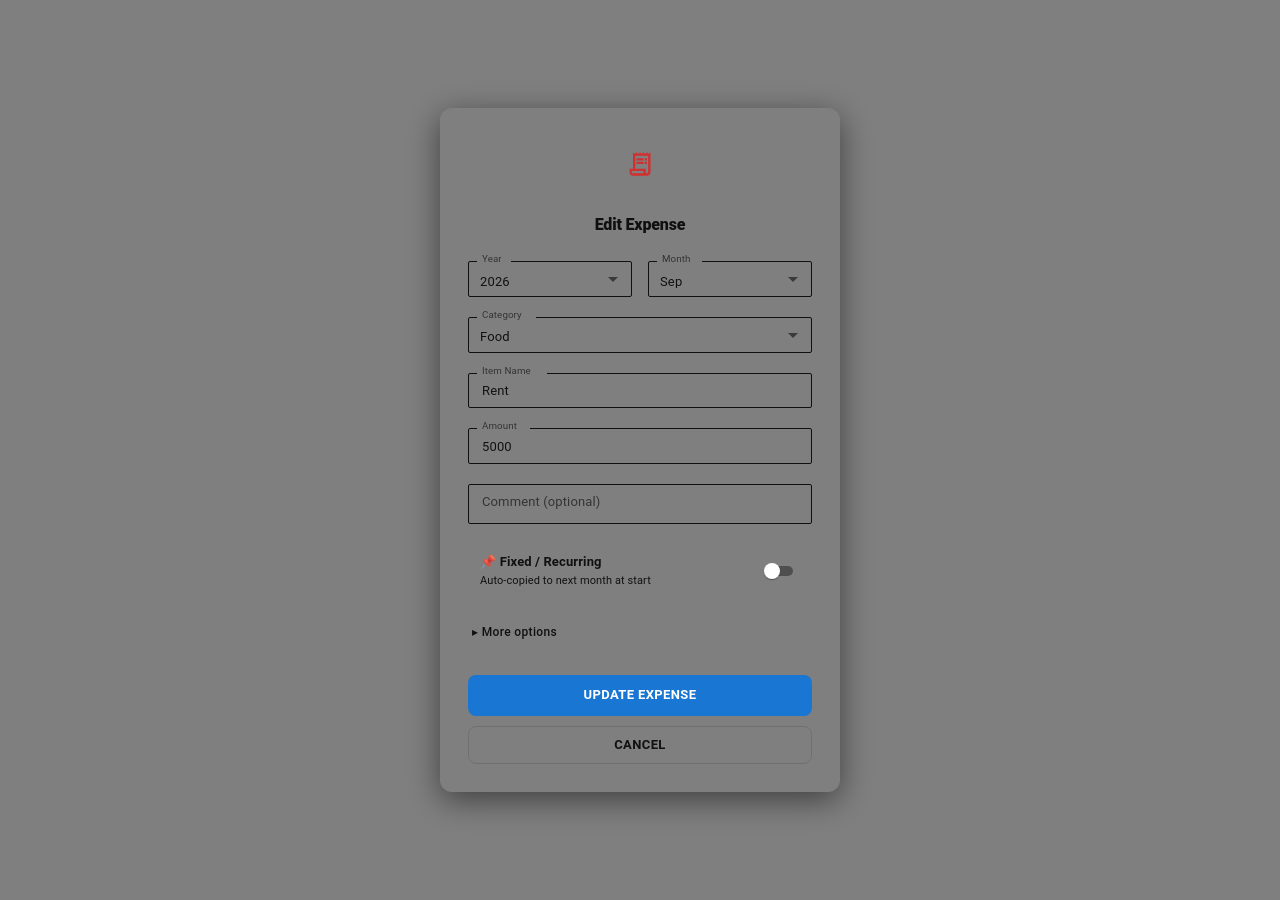
it: AddExpenseModal amount expressions › adds several values at once and shows the whole sum
The width and height of the screenshot is (1280, 900).
Replace the text in the field labelled "Amount" with "+200+300": (640, 446) [468, 428, 812, 464]
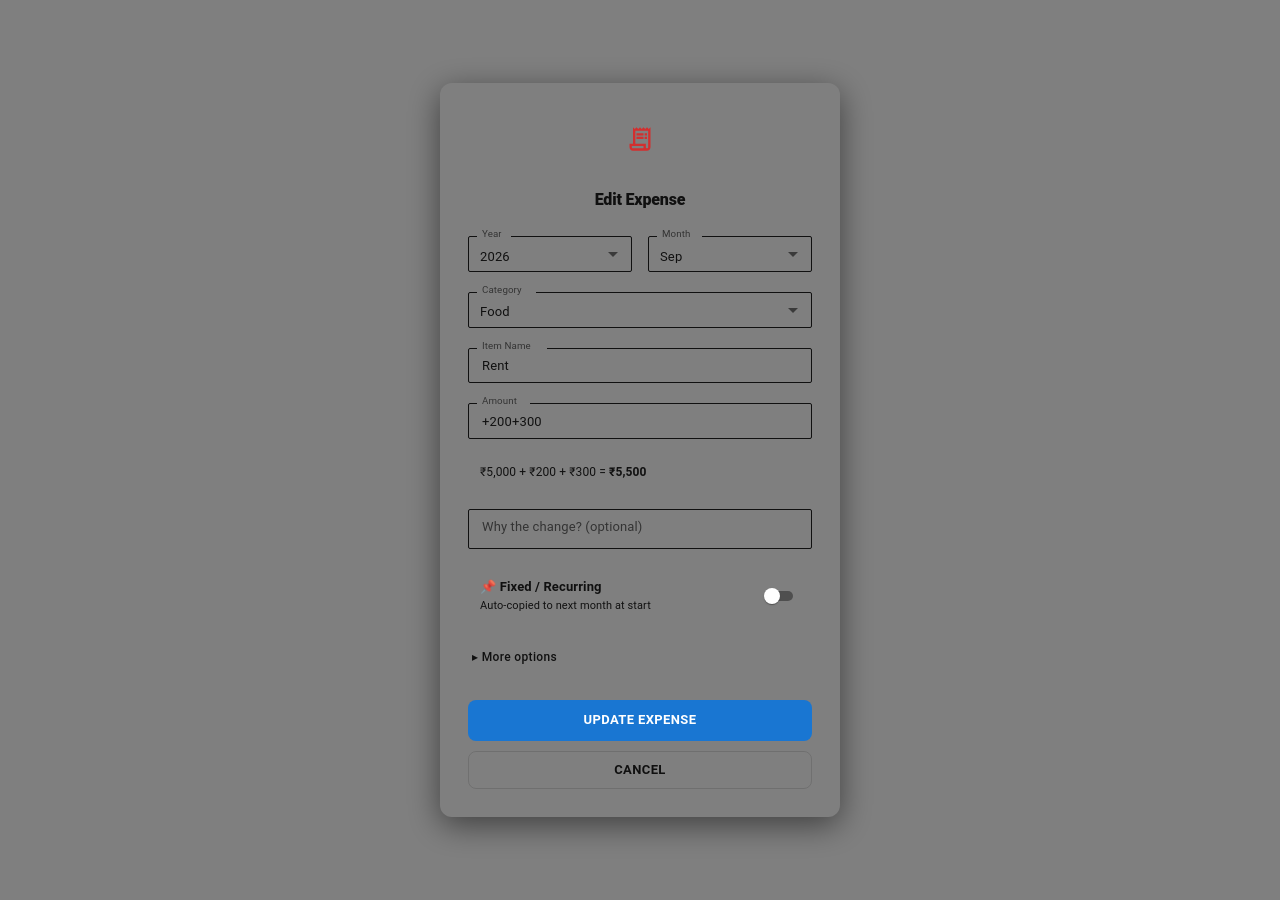
Expected: the text "₹5,000 + ₹200 + ₹300 = ₹5,500" is shown, [480, 465, 647, 479]
Expected: the text "₹5,500" is shown, [609, 465, 647, 479]
